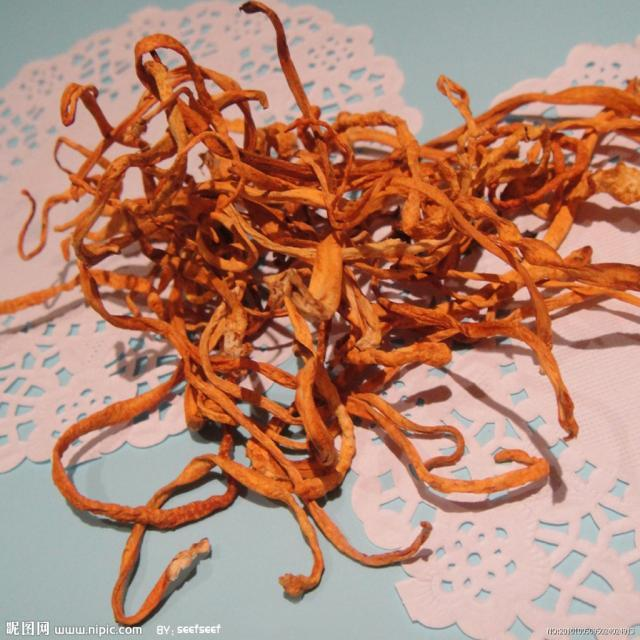Cordyceps militaris: (8, 9, 634, 625)
